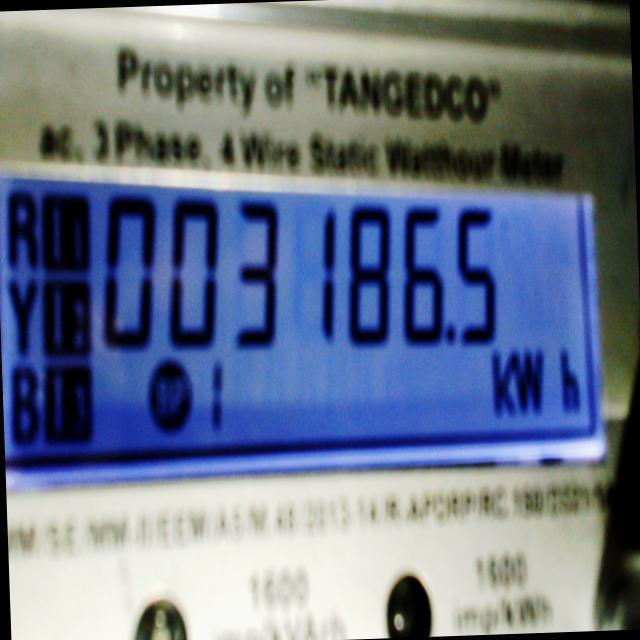LCD: (7, 138, 615, 480)
